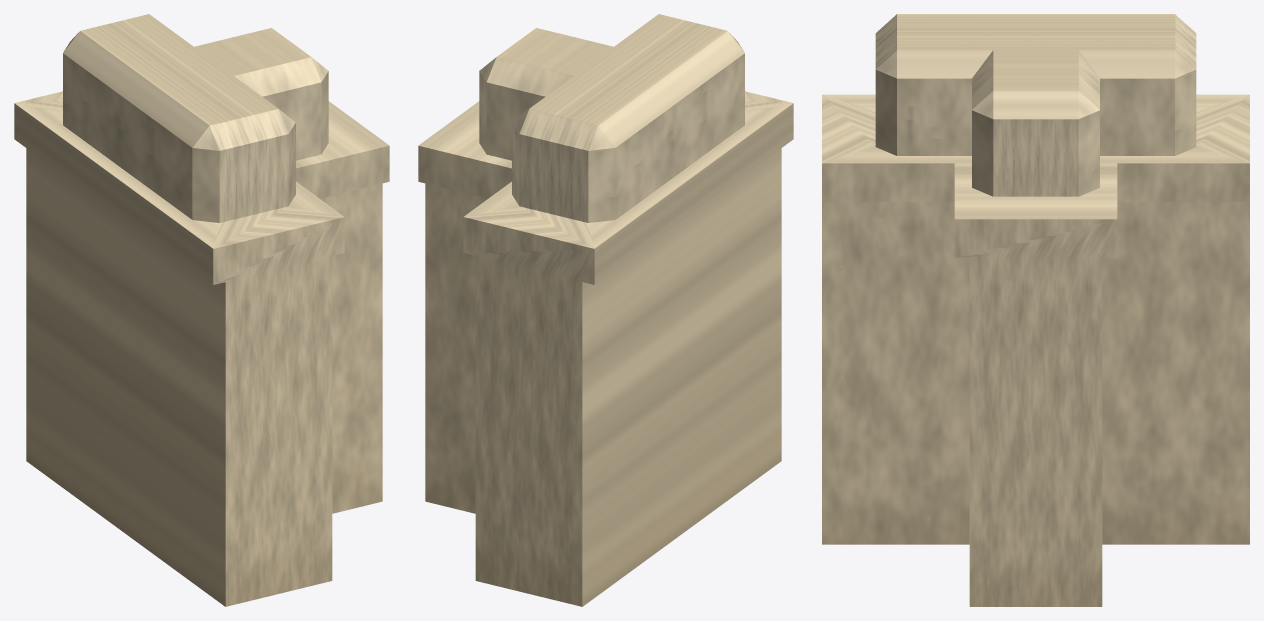
The picture shows the model from 3 angles, left to right: view 1: azimuth 30°, elevation 25°; view 2: azimuth 150°, elevation 25°; view 3: azimuth 270°, elevation 25°; orthographic projection. The views are drawn at different scales.
Parts seen in each view (by area): view 1: wall; view 2: wall; view 3: wall.
Boxes of the visible parts, x1,y1,x2,y2 form: wall: [14, 14, 389, 606]; wall: [418, 14, 793, 606]; wall: [822, 14, 1249, 606].
Size of the model in its own units: 0.69 by 1.25 by 1.
1 material, 1 textured.
